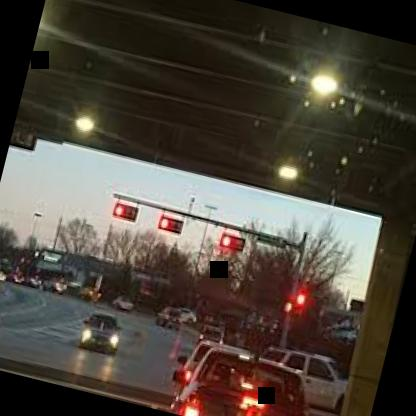car: (173, 329, 329, 416), (251, 319, 361, 416), (58, 294, 143, 370), (152, 298, 186, 338), (0, 281, 13, 369)
